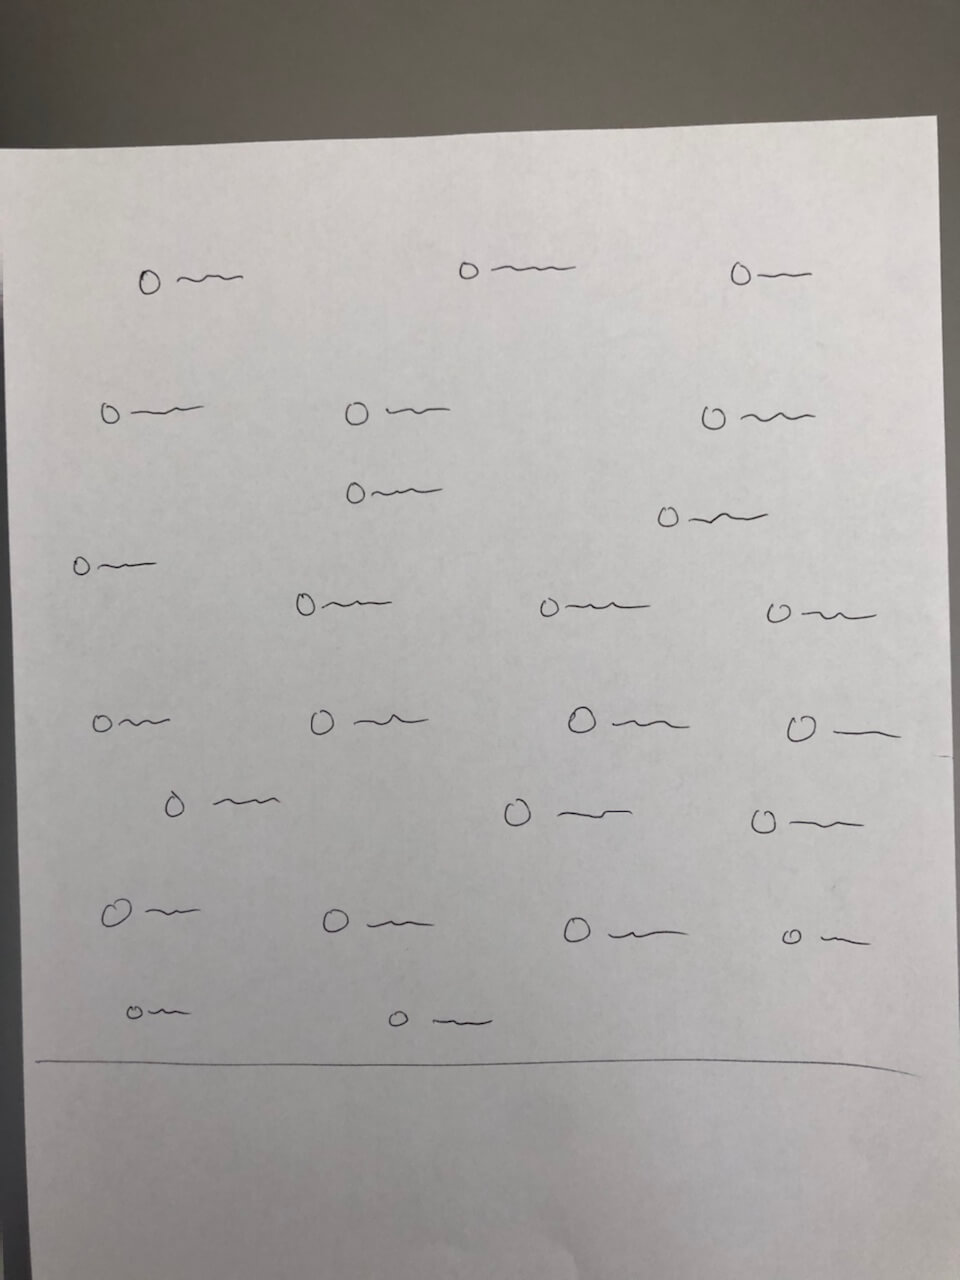radio-button: (562, 698, 695, 751), (761, 588, 886, 639), (744, 801, 880, 847), (697, 399, 829, 441), (304, 702, 436, 744), (93, 392, 217, 435), (537, 589, 658, 630), (654, 498, 776, 538), (132, 259, 250, 300), (340, 396, 459, 433), (341, 473, 451, 513), (453, 254, 588, 286), (724, 257, 820, 296), (293, 587, 397, 620), (86, 705, 181, 739), (64, 550, 165, 582), (123, 996, 198, 1025)
